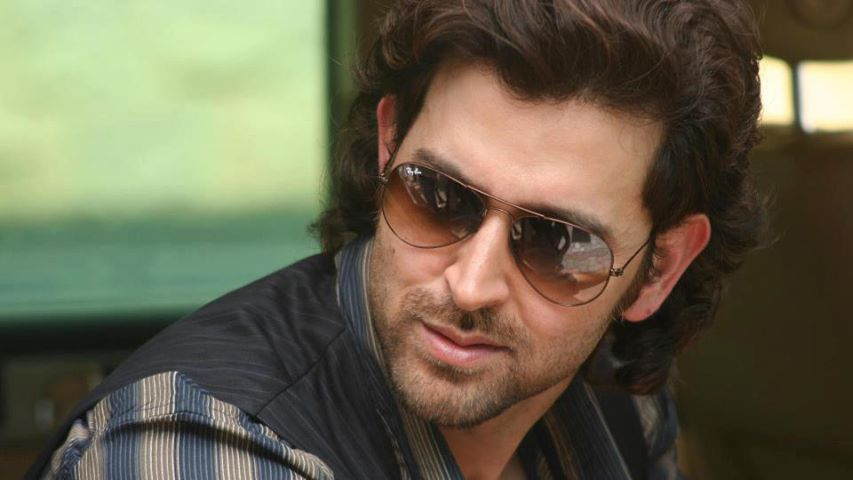bad: (312, 134, 633, 455)
